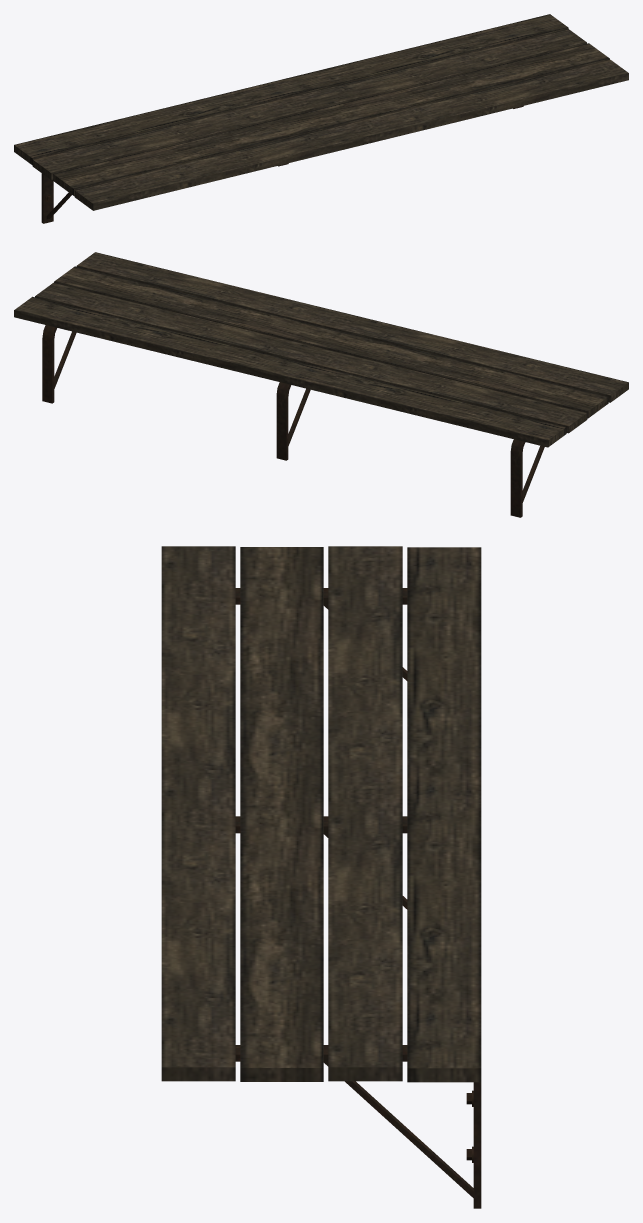
The model's file is hanging_shelf_mx_3_1.dae.
3 renders of one model, top to bottom at view 1: azimuth 30°, elevation 25°; view 2: azimuth 150°, elevation 25°; view 3: azimuth 270°, elevation 25°, orthographic. The views are drawn at different scales.
Parts seen in each view (by area): view 1: hanging_shelf_mx_3_1; view 2: hanging_shelf_mx_3_1; view 3: hanging_shelf_mx_3_1.
Part boxes in pixels (x1,y1,x2,y2): hanging_shelf_mx_3_1: [14, 14, 628, 223]; hanging_shelf_mx_3_1: [14, 252, 628, 517]; hanging_shelf_mx_3_1: [161, 546, 481, 1208].
Size of the model in its own units: 1.6 by 0.414 by 0.24.
2 materials, 2 textured.
